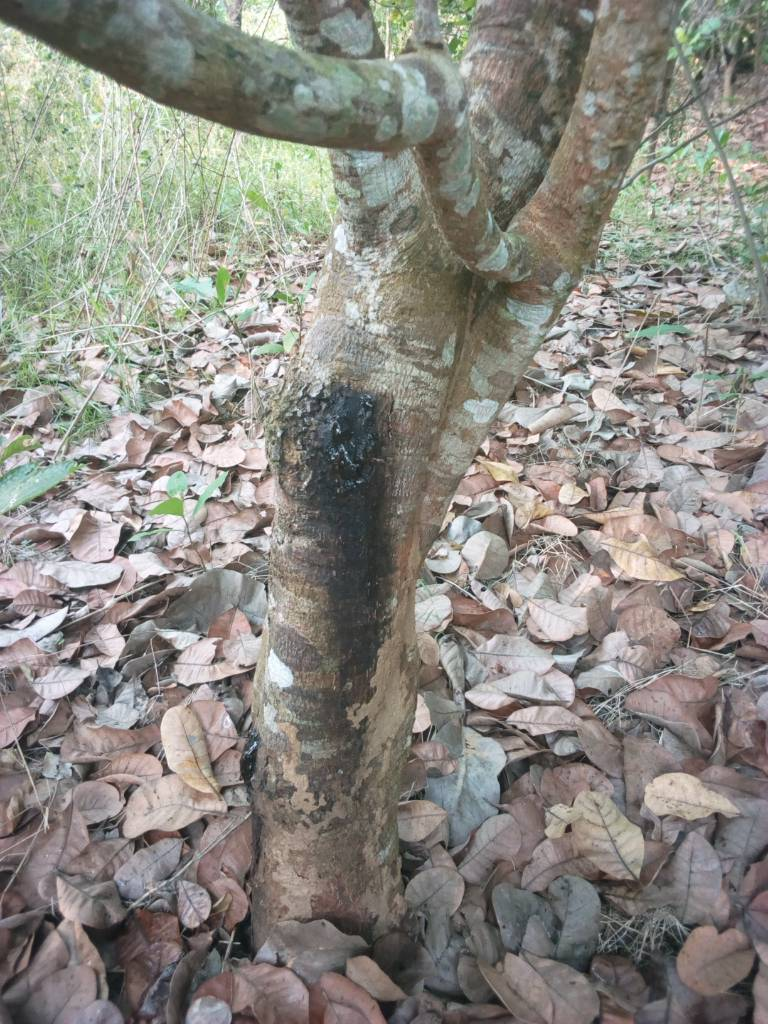Mecocorynus longiceps: (252, 358, 402, 550)
